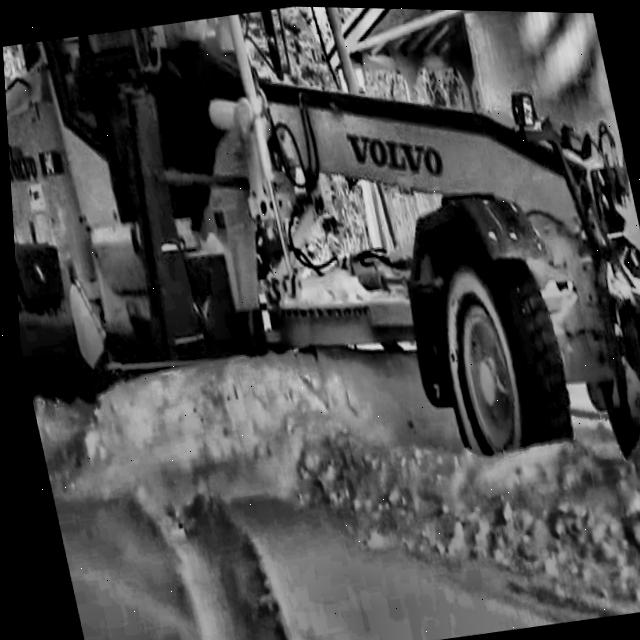buldozerpayloadergrader: (0, 0, 640, 550)
